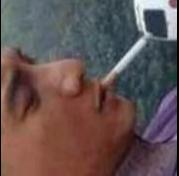Cigarette: (100, 31, 152, 88)
